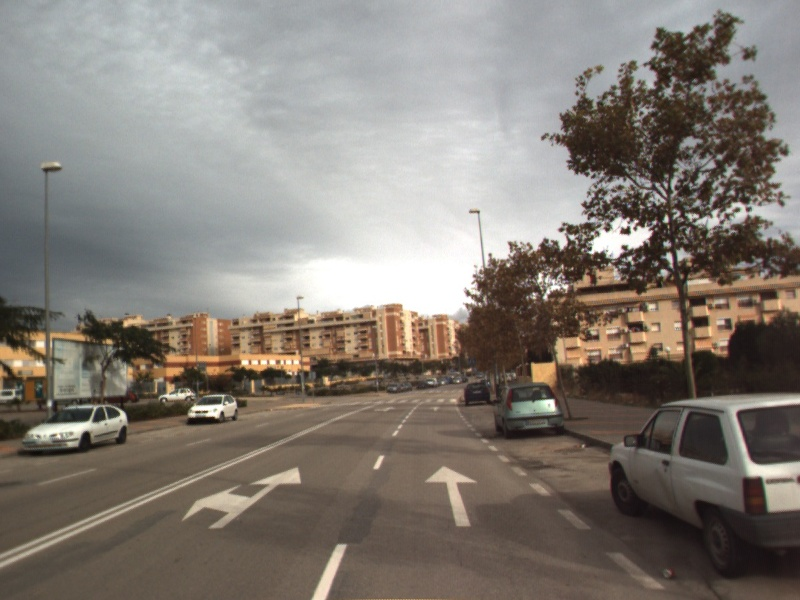STRAIGHT: (422, 463, 480, 529)
STRAIGHT_LEFT: (179, 465, 303, 531)
